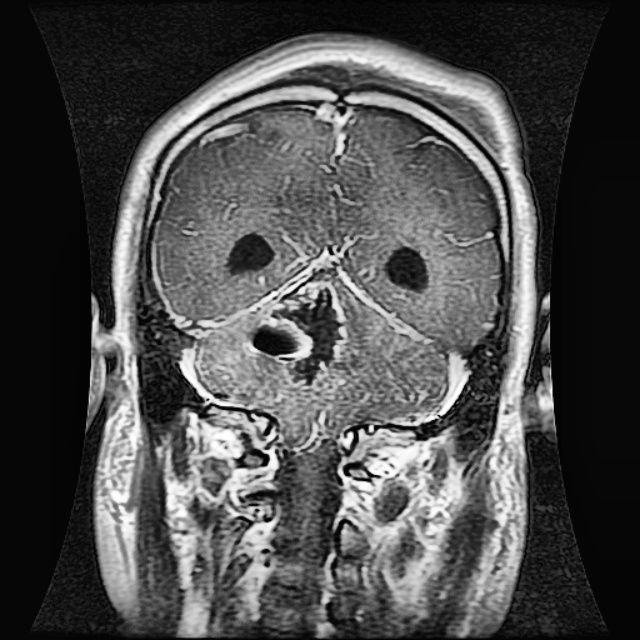Meningioma: (240, 273, 347, 387)
